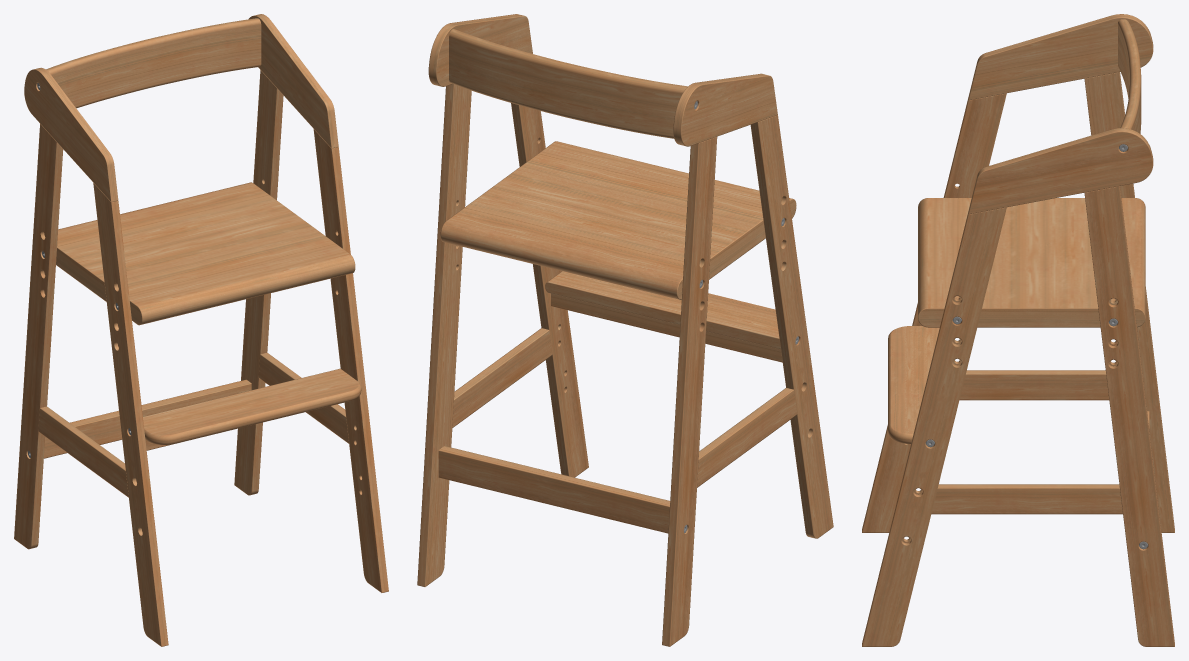
3 renders of one model, left to right at view 1: azimuth 30°, elevation 25°; view 2: azimuth 150°, elevation 25°; view 3: azimuth 270°, elevation 25°, orthographic. The views are drawn at different scales.
Parts seen in each view (by area): view 1: Plane; view 2: Plane; view 3: Plane.
Boxes of the visible parts, bbox=[...] form: Plane: bbox=[14, 14, 388, 646]; Plane: bbox=[417, 14, 833, 646]; Plane: bbox=[862, 14, 1174, 646].
Size of the model in its own units: 0.365 by 0.745 by 0.41.
1 material, 1 textured.
